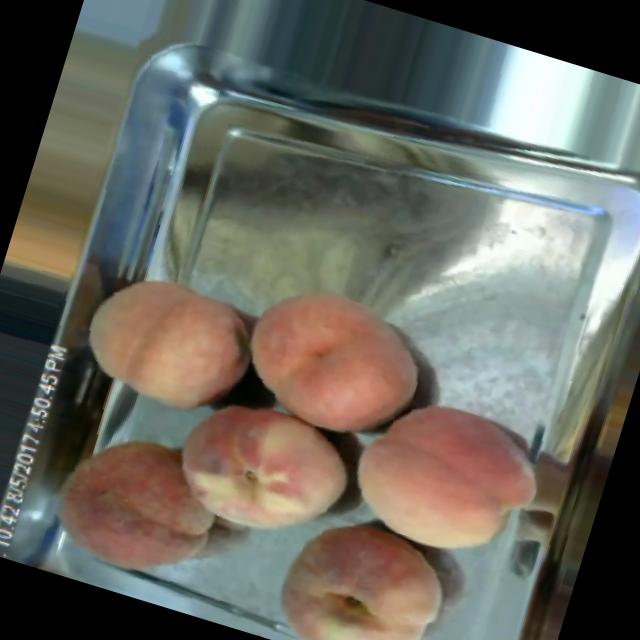Fruit: (324, 370, 564, 588), (220, 263, 446, 457), (149, 380, 372, 568), (35, 410, 244, 600), (62, 248, 272, 432), (255, 493, 471, 640)
